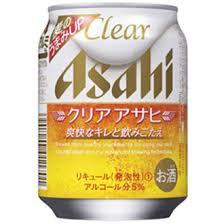beer: (36, 2, 191, 221)
